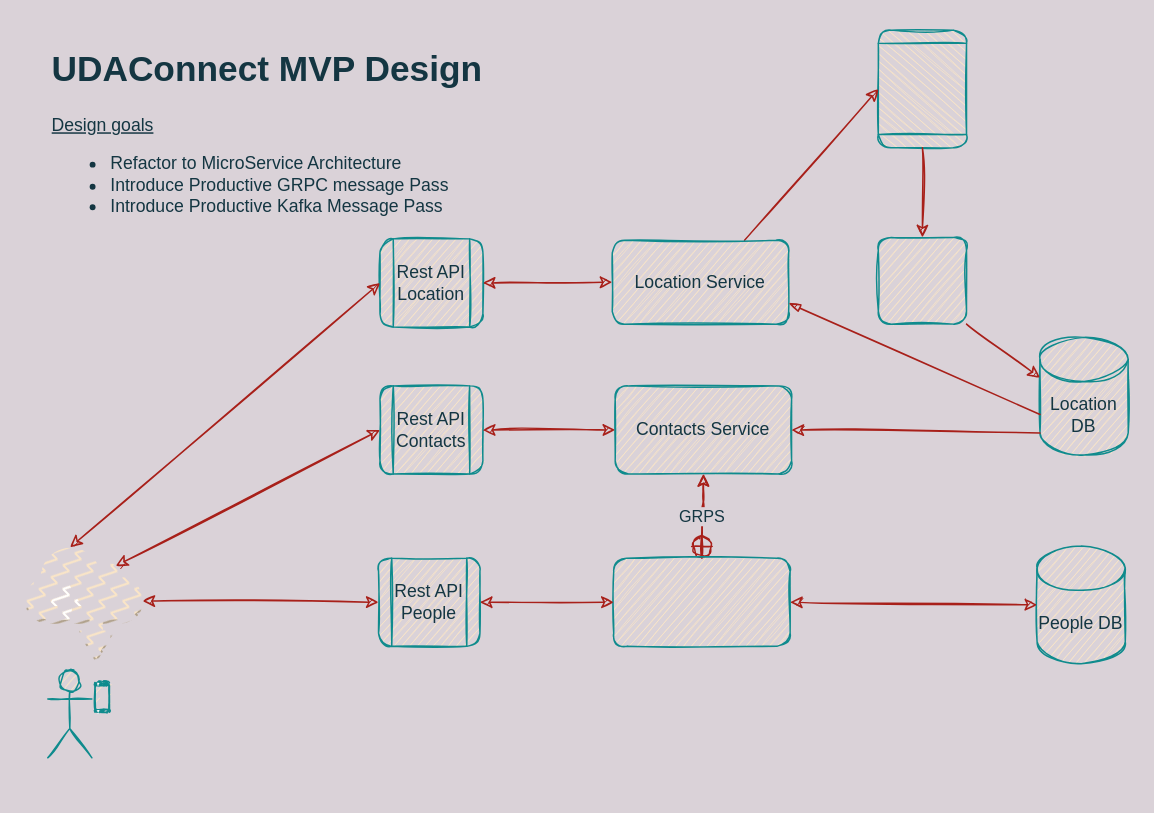
Image size: 1154x813. Some labels were removed from this diagram. The shapes that lost their labels are listed below. From the top down, each one's centre as x and y in pixels, then its label:
pixel 922 88: Kafka
pixel 922 280: Location Consumer
pixel 701 601: People Service
pixel 69 713: Actor
